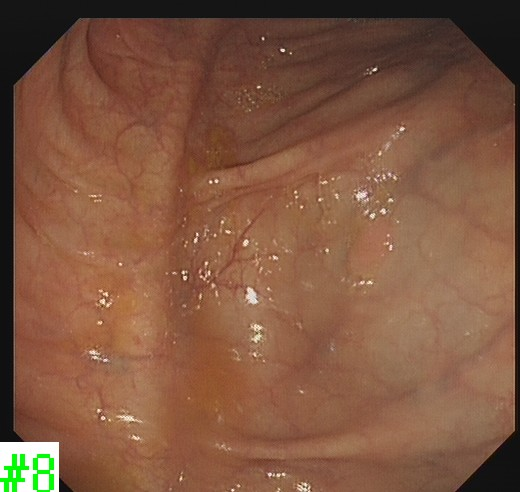adenoma: (345, 217, 394, 280)
